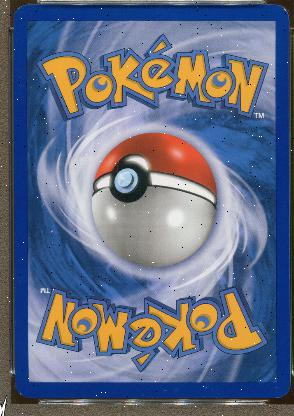Card: (9, 2, 291, 402)
Corner Wear: (272, 392, 285, 400), (279, 4, 287, 14), (16, 388, 24, 396), (16, 6, 24, 10)
Scratch: (17, 76, 25, 88), (172, 387, 178, 391), (162, 388, 166, 392), (203, 386, 206, 390)
